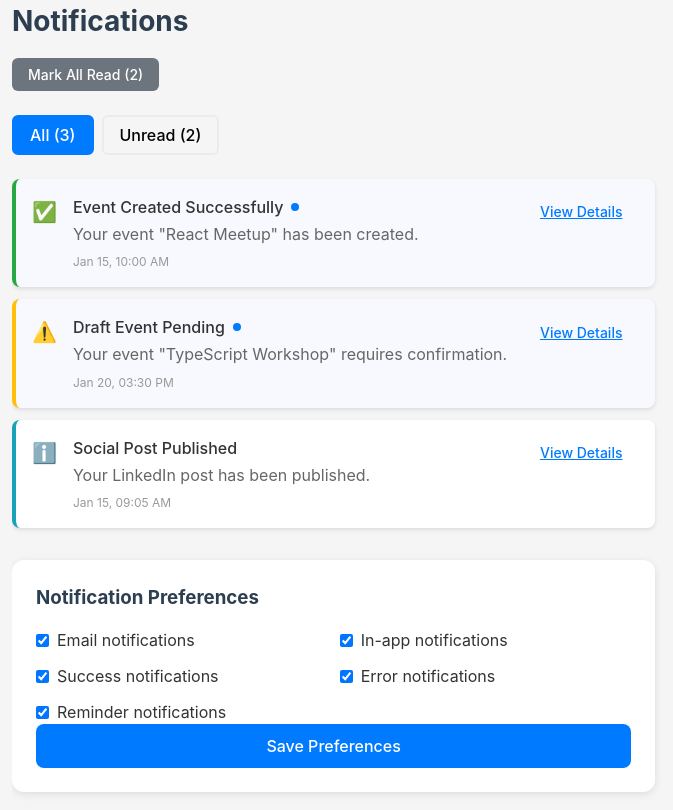
it: NotificationCenter Component › filters notifications by unread status
Expected: the text "Event Created Successfully" is shown, [73,197,300,217]
// Click unread filter
Step 1. Click the button "Unread (2)" → (160, 135), box [102,115,219,155]
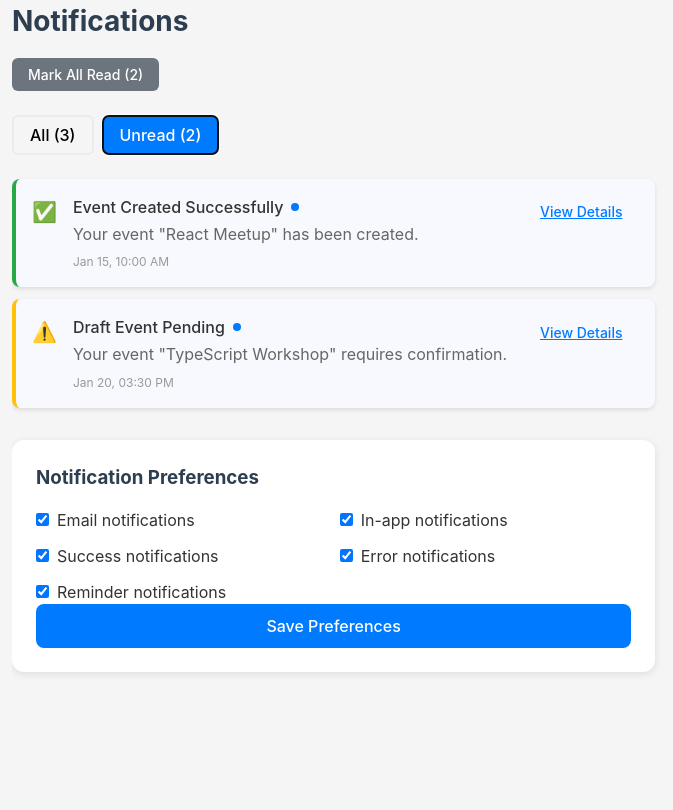
Expected: the text "Event Created Successfully" is shown, [73,197,300,217]
Expected: the text "Social Post Published" is gone
